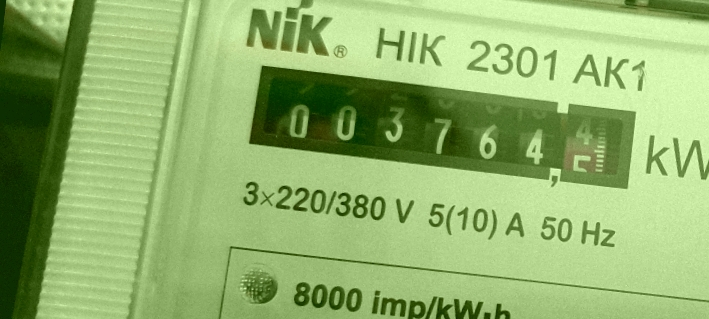0: (285, 100, 313, 140), (333, 101, 359, 143)
3: (381, 103, 408, 145)
4: (523, 125, 547, 167), (572, 113, 597, 147)
5: (569, 151, 593, 175)
6: (476, 121, 501, 161)
7: (427, 113, 455, 157)
screen: (233, 48, 654, 205)
